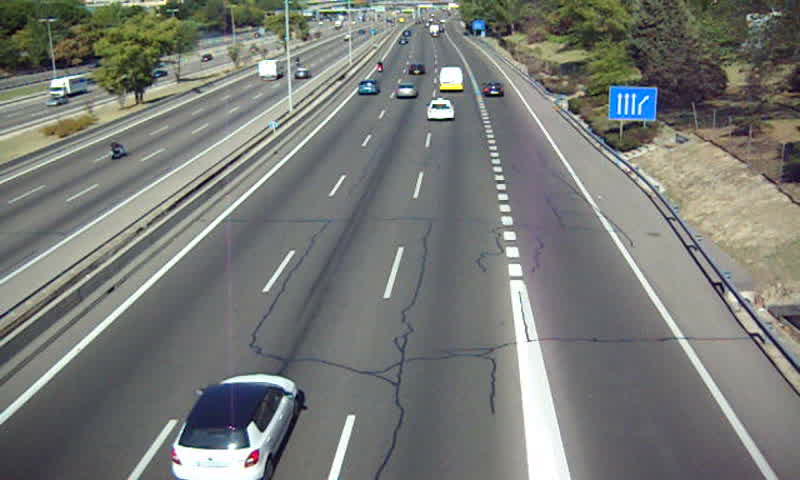car: (171, 373, 297, 480), (425, 99, 456, 121), (394, 84, 417, 101), (481, 82, 504, 98), (358, 80, 377, 97), (406, 63, 426, 75)
van: (437, 68, 464, 93)
